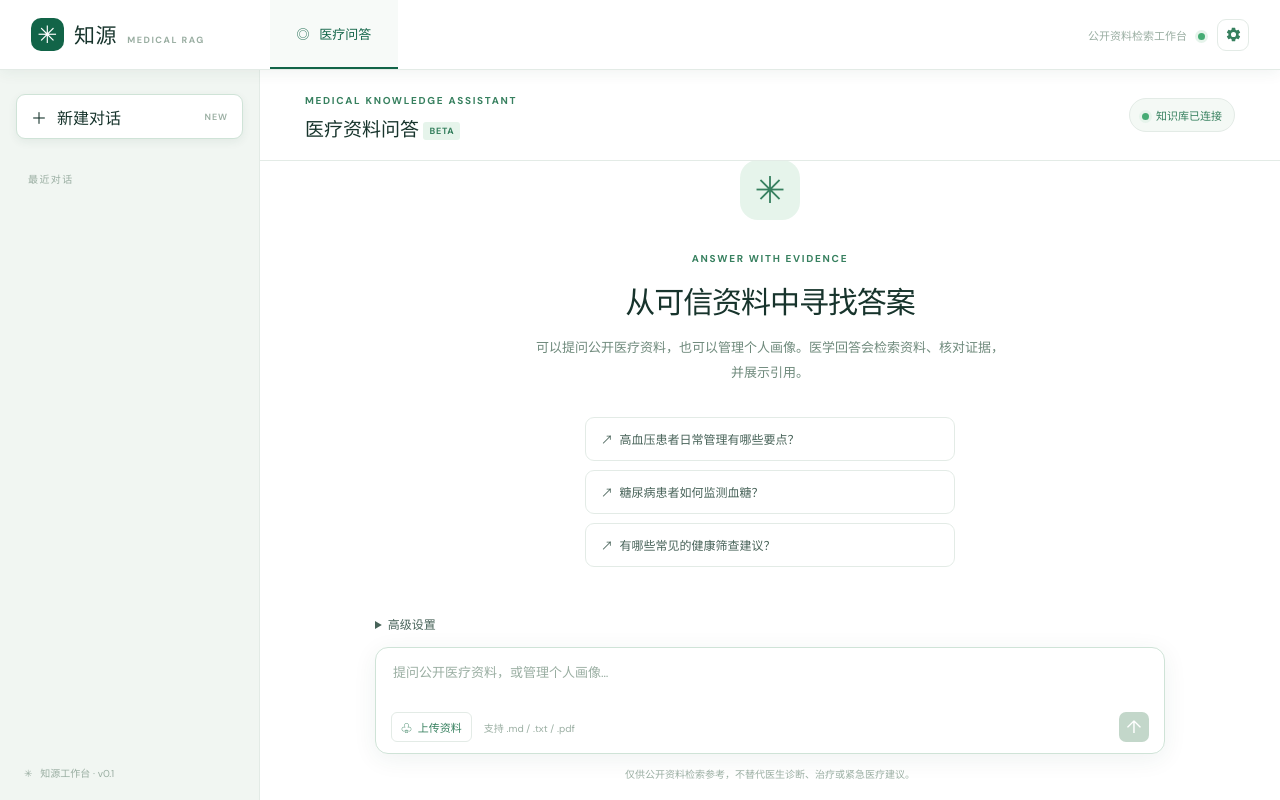
shows memory failure separately without discarding the successful answer
Type "普通问题" into the text box named "输入医疗资料问题".
click(770, 684); type("普通问题")  # box [391, 661, 1149, 707]
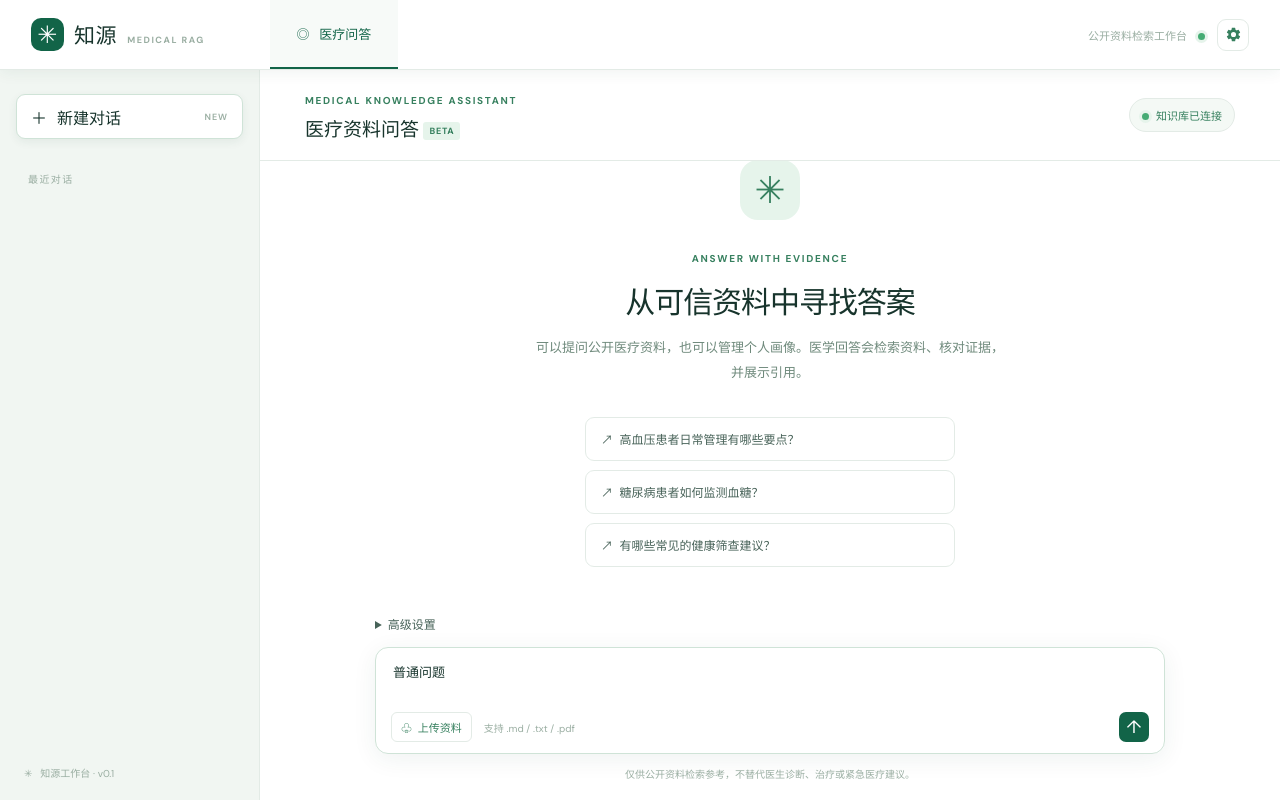
Expected: the button named "发送问题" is enabled
Click the button named "发送问题".
click(1134, 727)  # box [1119, 712, 1149, 742]
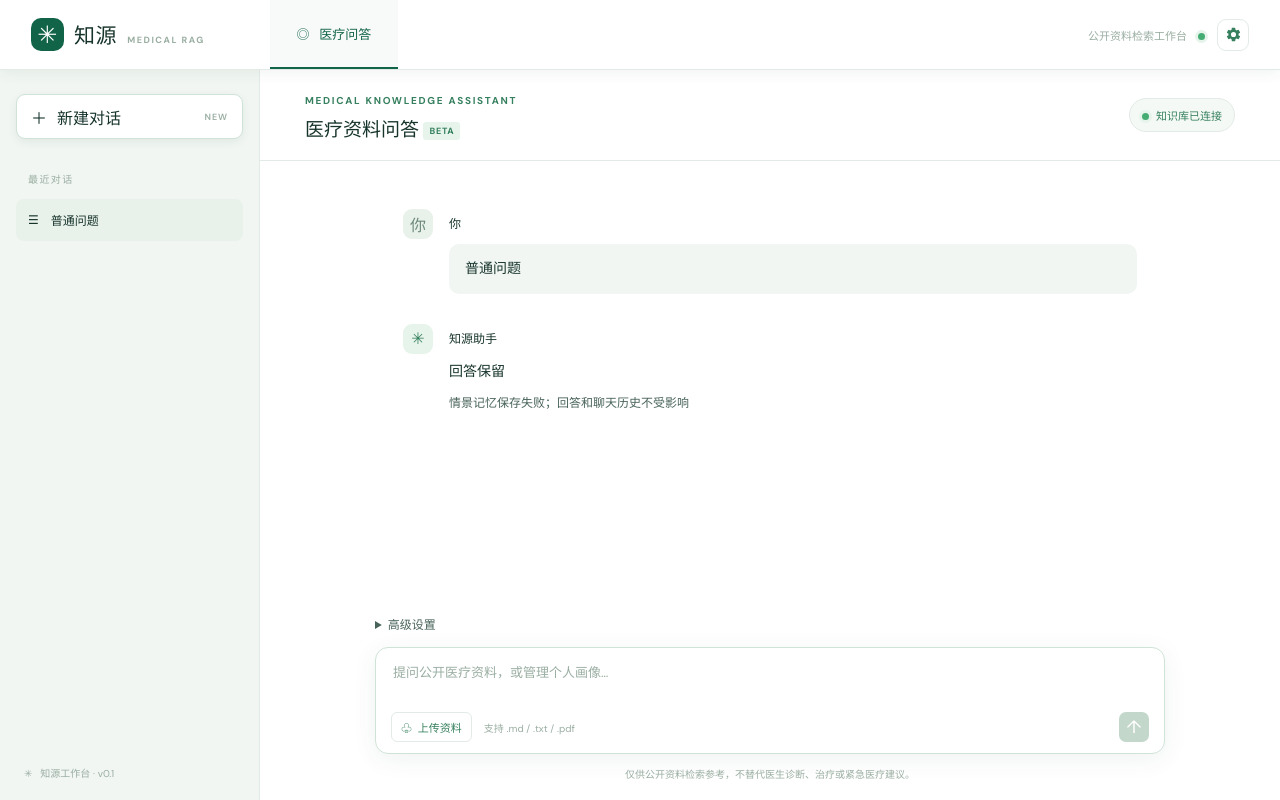
Expected: the text "回答保留" is shown, [449, 362, 505, 380]
Expected: the text "情景记忆保存失败；回答和聊天历史不受影响" is shown, [449, 395, 689, 411]
